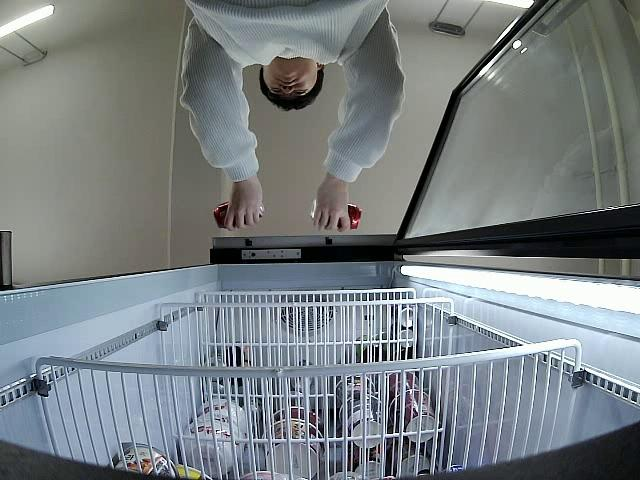00_hand: (312, 179, 350, 232), (224, 182, 263, 229)
11_cocaColaZero: (311, 199, 363, 233), (215, 202, 264, 229)
